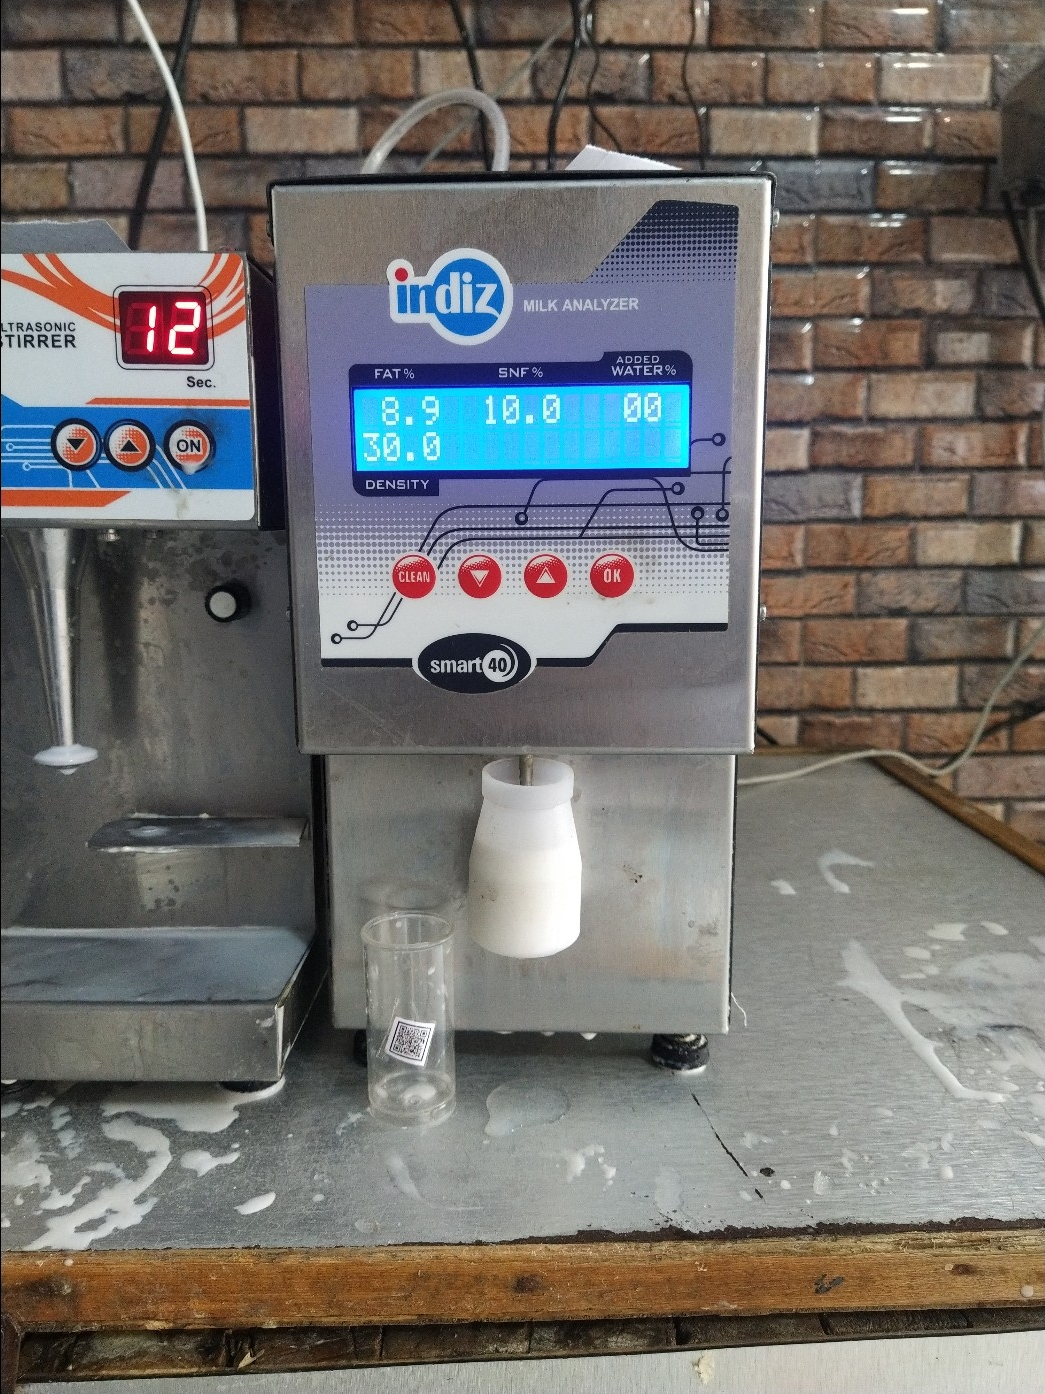lcd: (345, 379, 698, 490)
qr: (377, 1011, 440, 1077)
